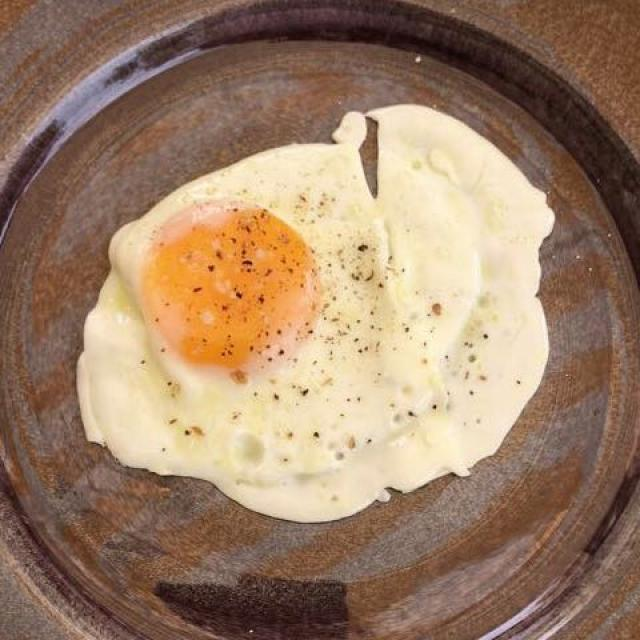egg: (78, 114, 551, 518)
